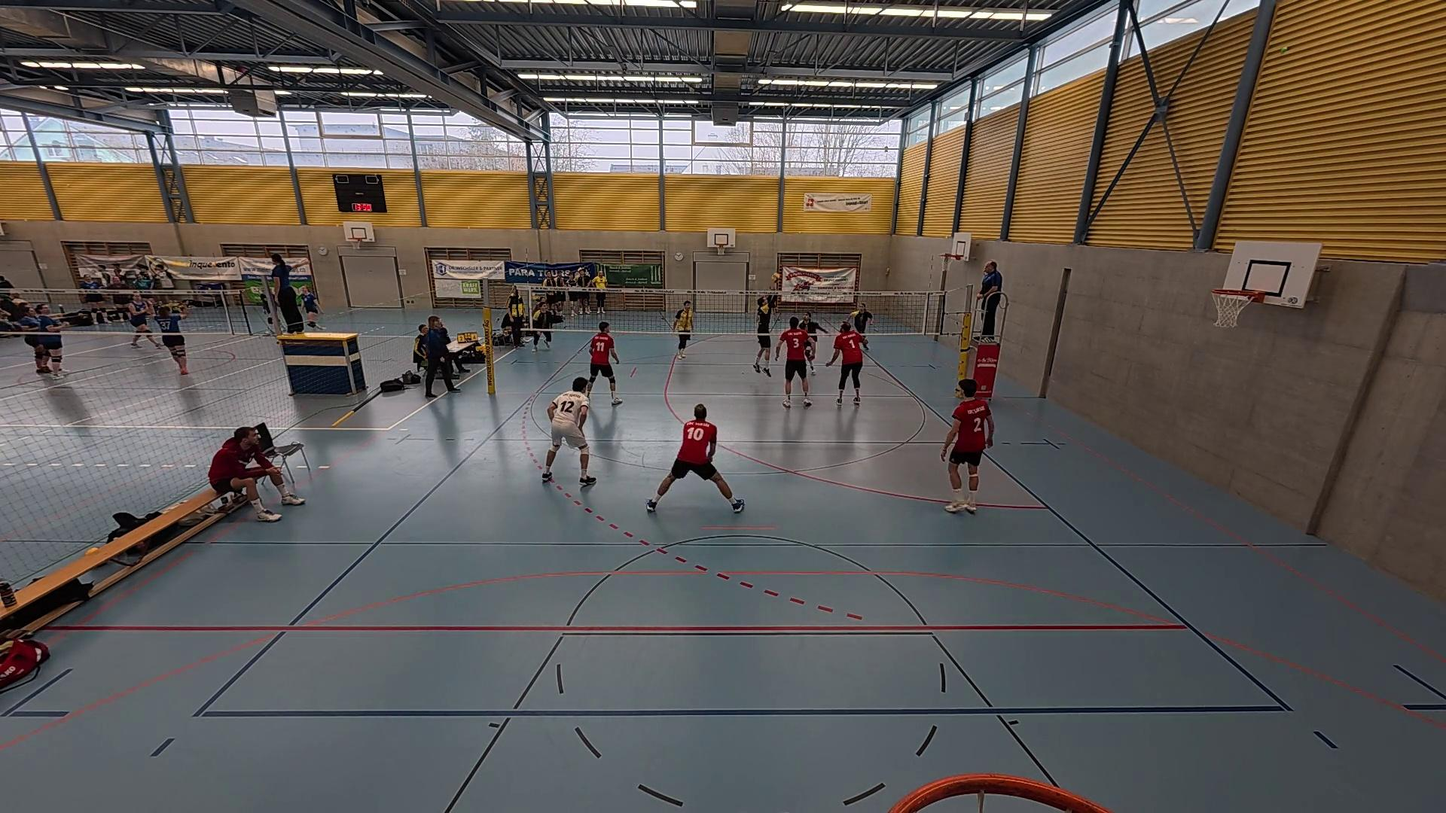alzata: (751, 269, 786, 376)
